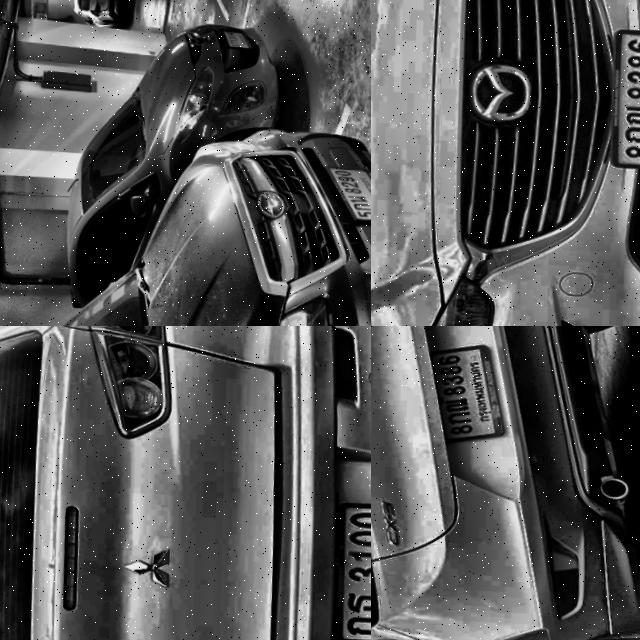license-plate: (417, 342, 510, 451), (316, 500, 371, 640), (596, 28, 640, 175), (317, 160, 371, 230), (216, 29, 253, 53)
